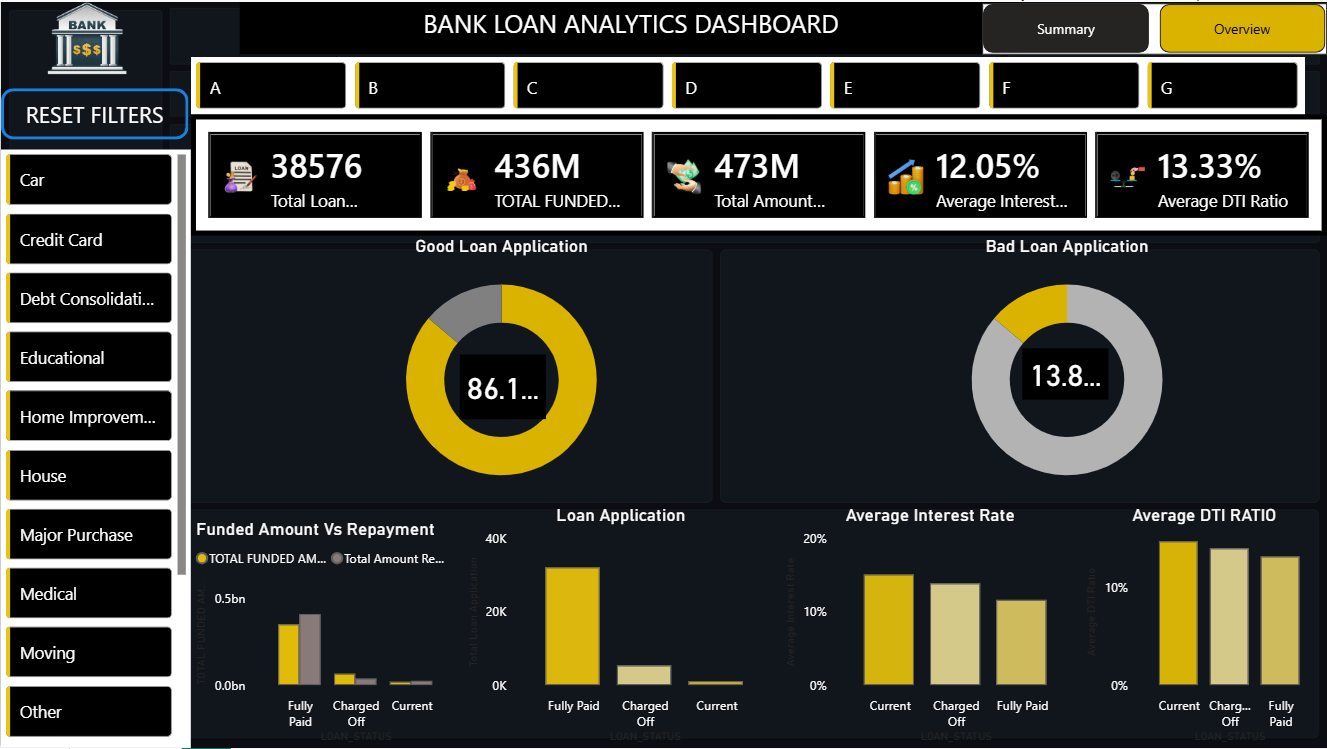

The page's visual inventory and layout, read from the dashboard file:
{"tool":"powerbi","page":{"name":"Summary","canvas":[1280,720],"ordinal":0},"visuals":[{"type":"cardVisual","fields":{"Data":["financial_loan.Total Loan Application","financial_loan.TOTAL FUNDED AMOUNT","financial_loan.Total Amount Recieved","financial_loan.Average Interest Rate","financial_loan.Average DTI Rate"]},"box":[183.4,108.6,1096.7,117],"z":0},{"type":"donutChart","title":"Good Loan Application ","fields":{"Category":["financial_loan.Good_vs_Bad_Loan"],"Y":["financial_loan.Total Loan Application"]},"box":[183.4,225.6,599.6,259.4],"z":1000},{"type":"donutChart","title":"Bad Loan Application ","fields":{"Category":["financial_loan.Good_vs_Bad_Loan"],"Y":["financial_loan.Total Loan Application"]},"box":[783,225.6,492.2,259.4],"z":2000},{"type":"card","fields":{"Values":["financial_loan.Good Loan %"]},"box":[442.8,340.2,83.2,62.7],"z":3000},{"type":"card","fields":{"Values":["financial_loan.Bad Loan %"]},"box":[985.7,334.2,83.2,49.5],"z":4000},{"type":"clusteredColumnChart","title":" Funded Amount  Vs Repayment","fields":{"Category":["financial_loan.LOAN_STATUS"],"Y":["financial_loan.TOTAL FUNDED AMOUNT","financial_loan.Total Amount Recieved"]},"box":[183.4,498.3,261.8,222],"z":7000},{"type":"clusteredColumnChart","title":"Loan Application","fields":{"Category":["financial_loan.LOAN_STATUS"],"Y":["financial_loan.Total Loan Application"]},"box":[445.2,485,306.4,235.3],"z":8000},{"type":"clusteredColumnChart","title":"Average Interest Rate","fields":{"Category":["financial_loan.LOAN_STATUS"],"Y":["financial_loan.Average Interest Rate"]},"box":[751.6,485,290.8,235.3],"z":9000},{"type":"clusteredColumnChart","title":"Average DTI RATIO","fields":{"Category":["financial_loan.LOAN_STATUS"],"Y":["financial_loan.Average DTI Ratio"]},"box":[1042.4,485,237.7,235.3],"z":10000},{"type":"image","box":[0,0,166.5,70],"z":11000},{"type":"advancedSlicerVisual","fields":{"Values":["financial_loan.PURPOSE"]},"box":[0,142.4,183.4,577.9],"z":12000},{"type":"advancedSlicerVisual","fields":{"Values":["financial_loan.GRADE"]},"box":[183.4,53.1,1074.9,55.5],"z":13000},{"type":"actionButton","box":[0,83.2,181,49.5],"z":14000},{"type":"textbox","box":[230.4,0,755.2,50.7],"z":15000},{"type":"pageNavigator","box":[947.1,1.2,333,49.5],"z":16000}]}

Visuals, with their boxes in screenshot pixels (x1, y1, x2, y2), scaled from the page's 1280x720 canvas onto the 1327x749 screenshot:
cardVisual - financial_loan.Total Loan Application x financial_loan.TOTAL FUNDED AMOUNT: (x1=190, y1=113, x2=1326, y2=235)
"Good Loan Application " donutChart: (x1=190, y1=235, x2=812, y2=505)
"Bad Loan Application " donutChart: (x1=812, y1=235, x2=1322, y2=505)
card - financial_loan.Good Loan %: (x1=459, y1=354, x2=545, y2=419)
card - financial_loan.Bad Loan %: (x1=1022, y1=348, x2=1108, y2=399)
" Funded Amount  Vs Repayment" clusteredColumnChart: (x1=190, y1=518, x2=462, y2=748)
"Loan Application" clusteredColumnChart: (x1=462, y1=505, x2=779, y2=748)
"Average Interest Rate" clusteredColumnChart: (x1=779, y1=505, x2=1081, y2=748)
"Average DTI RATIO" clusteredColumnChart: (x1=1081, y1=505, x2=1326, y2=748)
image: (x1=0, y1=0, x2=173, y2=73)
advancedSlicerVisual - financial_loan.PURPOSE: (x1=0, y1=148, x2=190, y2=748)
advancedSlicerVisual - financial_loan.GRADE: (x1=190, y1=55, x2=1305, y2=113)
actionButton: (x1=0, y1=87, x2=188, y2=138)
textbox: (x1=239, y1=0, x2=1022, y2=53)
pageNavigator: (x1=982, y1=1, x2=1326, y2=53)
